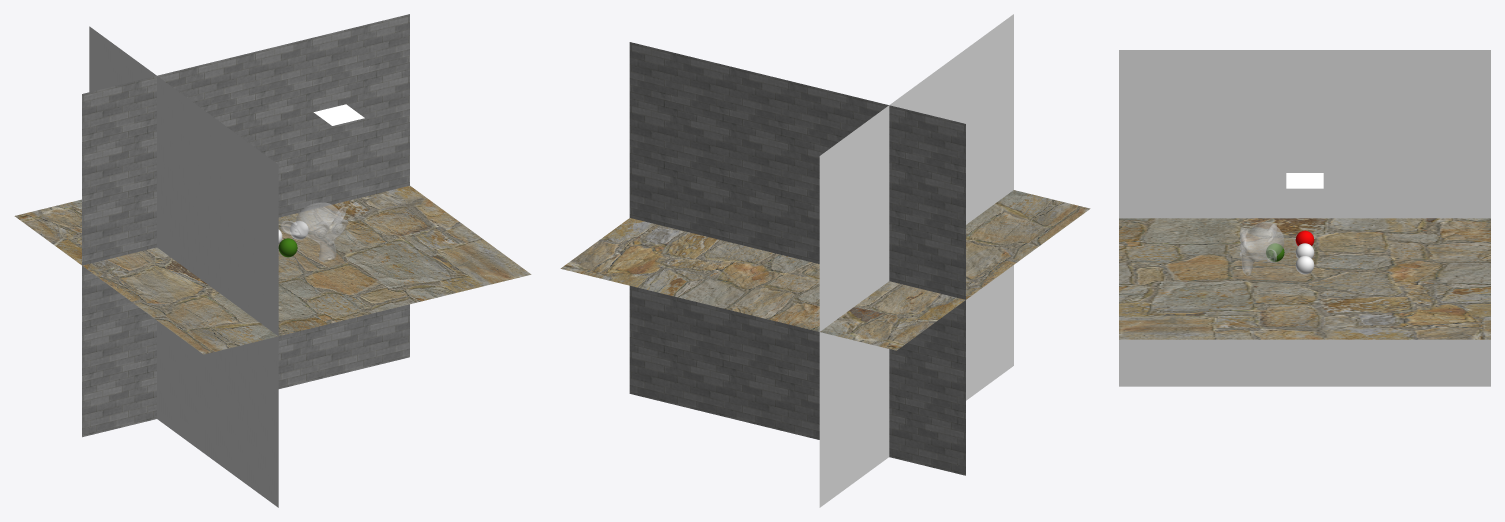
The model's file is refr.gltf.
3 views of the same model, side by side, from view 1: azimuth 30°, elevation 25°; view 2: azimuth 150°, elevation 25°; view 3: azimuth 270°, elevation 25° (orthographic). The views are drawn at different scales.
Visible parts, largest first — view 1: Plane.003, Plane.002, Plane, Suzanne, Plane.001; view 2: Plane.003, Plane.002, Plane; view 3: Plane.002, Plane, Suzanne, Plane.001.
Boxes of the visible parts, x1,y1,x2,y2 form: Plane.003: (82, 14, 409, 437); Plane.002: (89, 26, 278, 507); Plane: (14, 185, 531, 354); Suzanne: (280, 202, 347, 261); Plane.001: (313, 104, 364, 125); Plane.003: (629, 42, 965, 475); Plane.002: (819, 14, 1013, 507); Plane: (560, 190, 1090, 350); Plane.002: (1119, 50, 1490, 386); Plane: (1119, 218, 1490, 339); Suzanne: (1239, 221, 1284, 275); Plane.001: (1286, 173, 1323, 188).
Bounding box in the file's own units: 20 × 20 × 20.
Materials: 10 (2 with a texture image).
